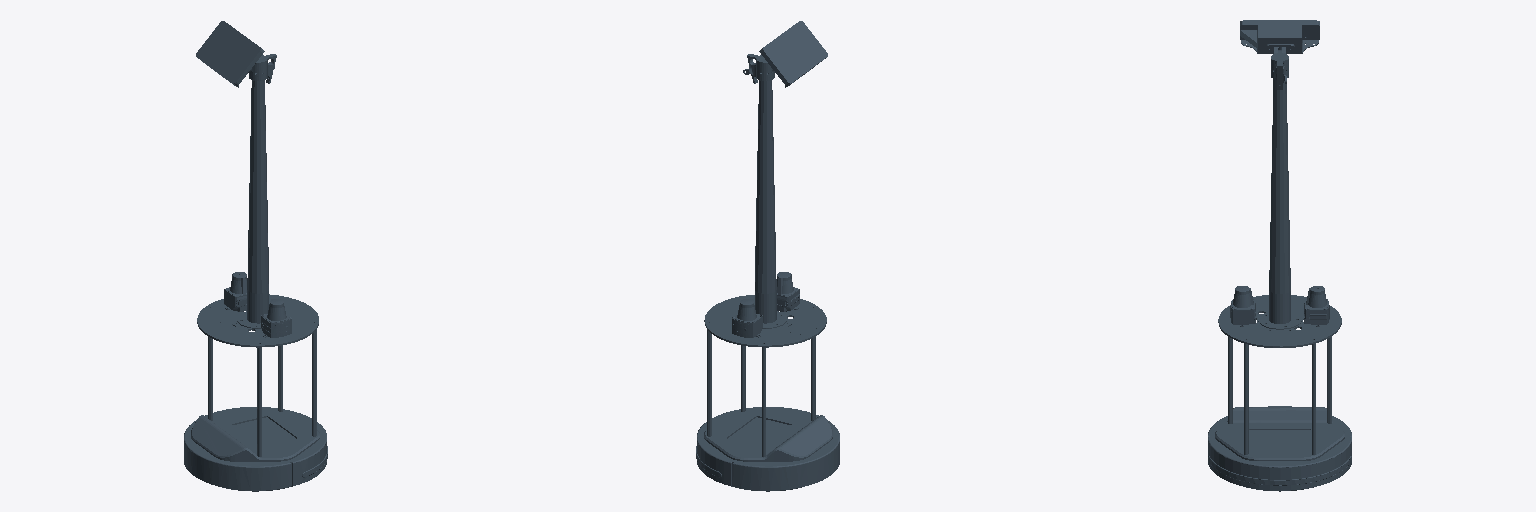
robot.urdf — kugle_sensor_suite_description:
<robot
  name="kugle_sensor_suite_description">
  <link
    name="base_link_tilted">
    <inertial>
      <origin
        xyz="-0.00301383563785555 -4.20447337898395E-05 0.055696890436616"
        rpy="0 0 0" />
      <mass
        value="7.8090575542003" />
      <inertia
        ixx="0.00218583565437956"
        ixy="4.01641485879307E-09"
        ixz="1.67472535609338E-05"
        iyy="7.27886330294267E-05"
        iyz="-1.64775506410208E-08"
        izz="0.00212121133162909" />
    </inertial>
    <visual>
      <origin
        xyz="0 0 0"
        rpy="0 0 0" />
      <geometry>
        <mesh
          filename="package://kugle_sensor_suite_description/meshes/base_link_tilted.STL" />
      </geometry>
      <material
        name="">
        <color
          rgba="0.321568627 0.380392157 0.431372549 1" />
      </material>
    </visual>
    <collision>
      <origin
        xyz="0 0 0"
        rpy="0 0 0" />
      <geometry>
        <mesh
          filename="package://kugle_sensor_suite_description/meshes/base_link_tilted.STL" />
      </geometry>
    </collision>
  </link>
  <link
    name="lidar_common">
    <inertial>
      <origin
        xyz="1.73472347597681E-18 9.10184598306514E-17 -0.0305272031258927"
        rpy="0 0 0" />
      <mass
        value="0.418986267236306" />
      <inertia
        ixx="0.00333419022034395"
        ixy="-4.83361878712875E-07"
        ixz="1.4939096308522E-18"
        iyy="2.16837897251315E-05"
        iyz="1.29187223281671E-14"
        izz="0.00331503400546597" />
    </inertial>
    <visual>
      <origin
        xyz="0 0 0"
        rpy="0 0 0" />
      <geometry>
        <mesh
          filename="package://kugle_sensor_suite_description/meshes/lidar_common.STL" />
      </geometry>
      <material
        name="">
        <color
          rgba="0.321568627 0.380392157 0.431372549 1" />
      </material>
    </visual>
    <collision>
      <origin
        xyz="0 0 0"
        rpy="0 0 0" />
      <geometry>
        <mesh
          filename="package://kugle_sensor_suite_description/meshes/lidar_common.STL" />
      </geometry>
    </collision>
  </link>
  <joint
    name="lidar_common_joint"
    type="fixed">
    <origin
      xyz="0.00769999999999983 0 0.463047098888623"
      rpy="2.22044604929405E-16 1.73472120937362E-18 0" />
    <parent
      link="base_link_tilted" />
    <child
      link="lidar_common" />
    <axis
      xyz="0 0 0" />
  </joint>
  <link
    name="lidar_R" />
  <joint
    name="lidar_r_joint"
    type="fixed">
    <origin
      xyz="0 -0.0906060065899628 0"
      rpy="6.72795210735763E-12 1.26634824627944E-14 -1.5707963267949" />
    <parent
      link="lidar_common" />
    <child
      link="lidar_R" />
    <axis
      xyz="0 0 0" />
  </joint>
  <link
    name="lidar_L" />
  <joint
    name="lidar_l_joint"
    type="fixed">
    <origin
      xyz="0 0.0906060065899628 0"
      rpy="6.72795210735763E-12 1.26634824627961E-14 1.5707963267949" />
    <parent
      link="lidar_common" />
    <child
      link="lidar_L" />
    <axis
      xyz="0 0 0" />
  </joint>
  <link
    name="sonar">
    <inertial>
      <origin
        xyz="-0.0151546217644447 0.00155383068176715 -0.00448198911449543"
        rpy="0 0 0" />
      <mass
        value="0.00865687925159544" />
      <inertia
        ixx="1.26512652324336E-07"
        ixy="3.5899527347839E-08"
        ixz="-1.79696271425092E-07"
        iyy="3.87081371217579E-07"
        iyz="2.43045282329257E-08"
        izz="2.70279783781286E-07" />
    </inertial>
    <visual>
      <origin
        xyz="-0.0151546217644448 0.00155383068176716 -0.019844819891144954"
        rpy="0 0 0" />
      <geometry>
        <mesh
          filename="package://kugle_sensor_suite_description/meshes/sonar.STL" />
      </geometry>
      <material
        name="">
        <color
          rgba="0.321568627 0.380392157 0.431372549 1" />
      </material>
    </visual>
    <collision>
      <origin
        xyz="-0.0151546217644448 0.00155383068176716 -0.019844819891144954"
        rpy="0 0 0" />
      <geometry>
        <mesh
          filename="package://kugle_sensor_suite_description/meshes/sonar.STL" />
      </geometry>
    </collision>
  </link>
  <joint
    name="sonar_joint"
    type="fixed">
    <origin
      xyz="0.0930161999999998 0.00218359999963151 0.375000000000046"
      rpy="-3.14159265358979 6.98469739889564E-15 2.35228503342455E-15" />
    <parent
      link="base_link_tilted" />
    <child
      link="sonar" />
    <axis
      xyz="0 0 0" />
  </joint>
  <link
    name="realsense_link">
    <inertial>
      <origin
        xyz="-0.0124672977688214 -0.0158182835716583 2.49566537557512E-06"
        rpy="0 0 0" />
      <mass
        value="0.0381925759002226" />
      <inertia
        ixx="1.11202927344454E-06"
        ixy="1.15477257099603E-07"
        ixz="2.59965314102112E-08"
        iyy="1.55473409738341E-06"
        iyz="2.08679145327879E-08"
        izz="2.60086723399201E-06" />
    </inertial>
    <visual>
      <origin
        xyz="0 0 0"
        rpy="0 0 0" />
      <geometry>
        <mesh
          filename="package://kugle_sensor_suite_description/meshes/realsense_link.STL" />
      </geometry>
      <material
        name="">
        <color
          rgba="0.321568627 0.380392157 0.431372549 1" />
      </material>
    </visual>
    <collision>
      <origin
        xyz="0 0 0"
        rpy="0 0 0" />
      <geometry>
        <mesh
          filename="package://kugle_sensor_suite_description/meshes/realsense_link.STL" />
      </geometry>
    </collision>
  </link>
  <joint
    name="realsense_joint"
    type="fixed">
    <origin
      xyz="0.0741604271836051 0 1.07356708408033"
      rpy="1.5707963267949 0.261799387799143 1.15865951206672E-17" />
    <parent
      link="base_link_tilted" />
    <child
      link="realsense_link" />
    <axis
      xyz="0 0 0" />
  </joint>
  <link
    name="stl_link">
    <inertial>
      <origin
        xyz="0.00340742446662251 0.648645148200617 0.000270875918048139"
        rpy="0 0 0" />
      <mass
        value="1.79097490530036" />
      <inertia
        ixx="0.109211218943115"
        ixy="0.00633989304656072"
        ixz="3.06193839198204E-05"
        iyy="0.00323707998470844"
        iyz="-0.000228290652664393"
        izz="0.109589892064862" />
    </inertial>
    <visual>
      <origin
        xyz="0 0 0"
        rpy="0 0 0" />
      <geometry>
        <mesh
          filename="package://kugle_sensor_suite_description/meshes/stl_link.STL" />
      </geometry>
      <material
        name="">
        <color
          rgba="0.321568627 0.380392157 0.431372549 1" />
      </material>
    </visual>
    <collision>
      <origin
        xyz="0 0 0"
        rpy="0 0 0" />
      <geometry>
        <mesh
          filename="package://kugle_sensor_suite_description/meshes/stl_link.STL" />
      </geometry>
    </collision>
  </link>
  <joint
    name="stl_link"
    type="fixed">
    <origin
      xyz="0 0 0"
      rpy="1.5707963267949 0 0" />
    <parent
      link="base_link_tilted" />
    <child
      link="stl_link" />
    <axis
      xyz="0 0 0" />
  </joint>
</robot>

--- Facts derived from the render (not from the file) ---
3 views of the same robot in one strip: view 1: azimuth 30°, elevation 25°; view 2: azimuth 150°, elevation 25°; view 3: azimuth 270°, elevation 25° (orthographic).
Model kugle_sensor_suite_description with 7 links and 6 joints (6 fixed), rooted at base_link_tilted, posed every joint at zero.
Visible links, largest first — view 1: stl_link, base_link_tilted, lidar_common; view 2: stl_link, base_link_tilted, lidar_common; view 3: stl_link, base_link_tilted, lidar_common.
Boxes of the visible links, x1,y1,x2,y2 form: stl_link: [196, 21, 318, 456]; base_link_tilted: [184, 407, 327, 491]; lidar_common: [224, 272, 291, 337]; stl_link: [704, 21, 827, 456]; base_link_tilted: [696, 407, 839, 491]; lidar_common: [732, 272, 799, 337]; stl_link: [1218, 20, 1341, 454]; base_link_tilted: [1208, 406, 1351, 491]; lidar_common: [1230, 286, 1329, 326].
Size in the robot's own frame: 0.3519 by 0.35 by 1.18 metres.
4 mesh visuals loaded from 5 distinct referenced files (4 binary STL); not drawn: 1 (reference not matched to a file when rendering).
